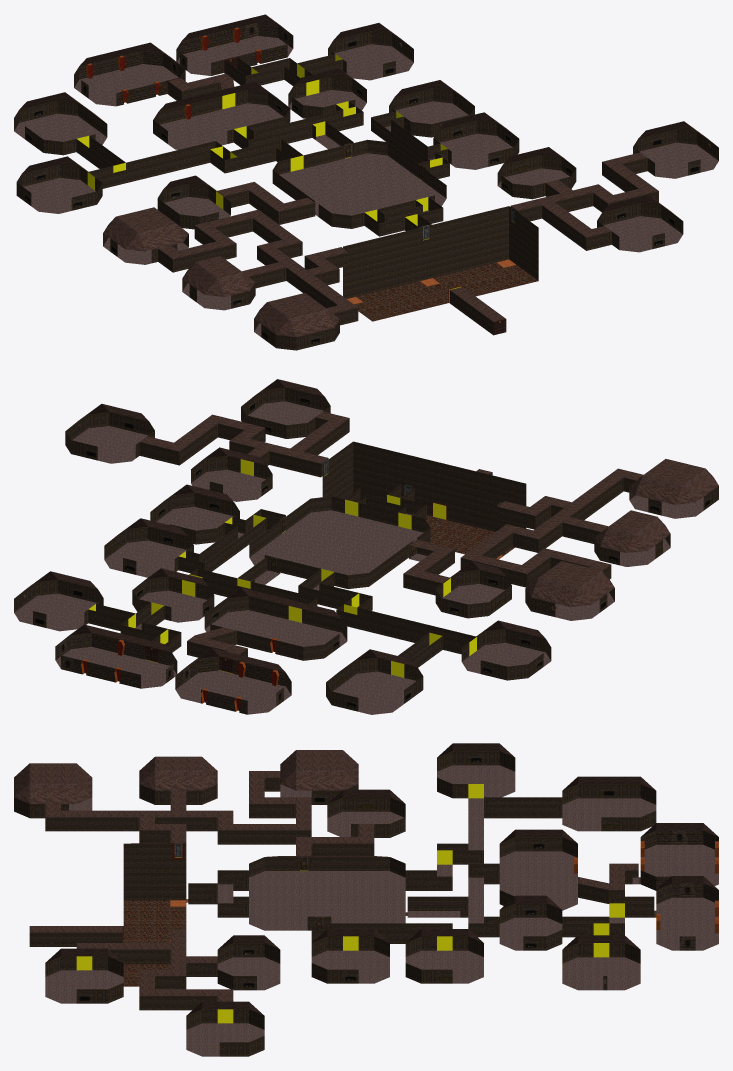
The model's file is D14.Blv 1.obj.
3 views of the same model, one above another, from view 1: azimuth 30°, elevation 25°; view 2: azimuth 150°, elevation 25°; view 3: azimuth 270°, elevation 25° (orthographic). The views are drawn at different scales.
Visible parts, largest first — view 1: Room2, Room19, Room34, Room37, Room41, Room30, Room48, Room42, Room15, Room49, Room18, Room46 (+31 smaller); view 2: Room19, Room2, Room34, Room37, Room41, Room30, Room48, Room42, Room44, Room49, Room18, Room15 (+28 smaller); view 3: Room19, Room2, Room34, Room30, Room41, Room37, Room49, Room48, Room18, Room15, Room47, Room46 (+29 smaller).
Part boxes in pixels (box(x1,y1,x2,y2)): Room2: box(343, 206, 538, 321); Room19: box(272, 139, 446, 228); Room34: box(153, 82, 290, 149); Room37: box(74, 42, 185, 106); Room41: box(176, 14, 293, 75); Room30: box(14, 92, 107, 155); Room48: box(16, 156, 102, 213); Room42: box(254, 293, 339, 350); Room15: box(597, 195, 683, 252); Room49: box(328, 23, 413, 80); Room18: box(633, 121, 718, 178); Room46: box(433, 112, 519, 169); Room19: box(249, 496, 430, 588); Room2: box(322, 441, 526, 559); Room34: box(204, 588, 347, 660); Room37: box(175, 648, 291, 714); Room41: box(55, 624, 177, 688); Room30: box(326, 649, 423, 714); Room48: box(461, 620, 551, 680); Room42: box(629, 459, 718, 518); Room44: box(525, 561, 614, 620); Room49: box(14, 571, 103, 631); Room18: box(65, 404, 154, 463); Room15: box(241, 379, 330, 438); Room19: box(249, 856, 405, 930); Room2: box(123, 842, 186, 986); Room34: box(499, 829, 577, 910); Room30: box(562, 776, 656, 831); Room41: box(656, 876, 718, 950); Room37: box(640, 823, 718, 890); Room49: box(562, 935, 640, 990); Room48: box(437, 743, 515, 798); Room18: box(186, 1001, 264, 1056); Room15: box(45, 948, 123, 1003); Room47: box(405, 929, 483, 983); Room46: box(311, 929, 389, 983).
Bounding box in the file's own units: 11264 × 1280 × 11520.
Materials: 34 (34 with a texture image).
